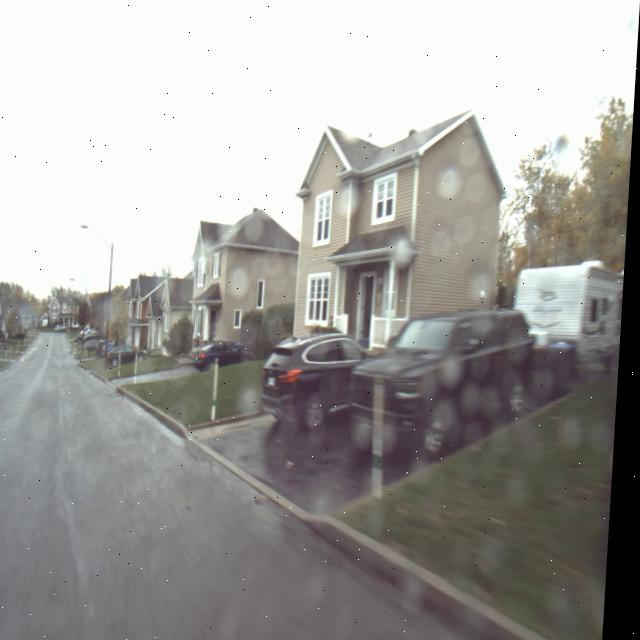car: (255, 321, 379, 423)
